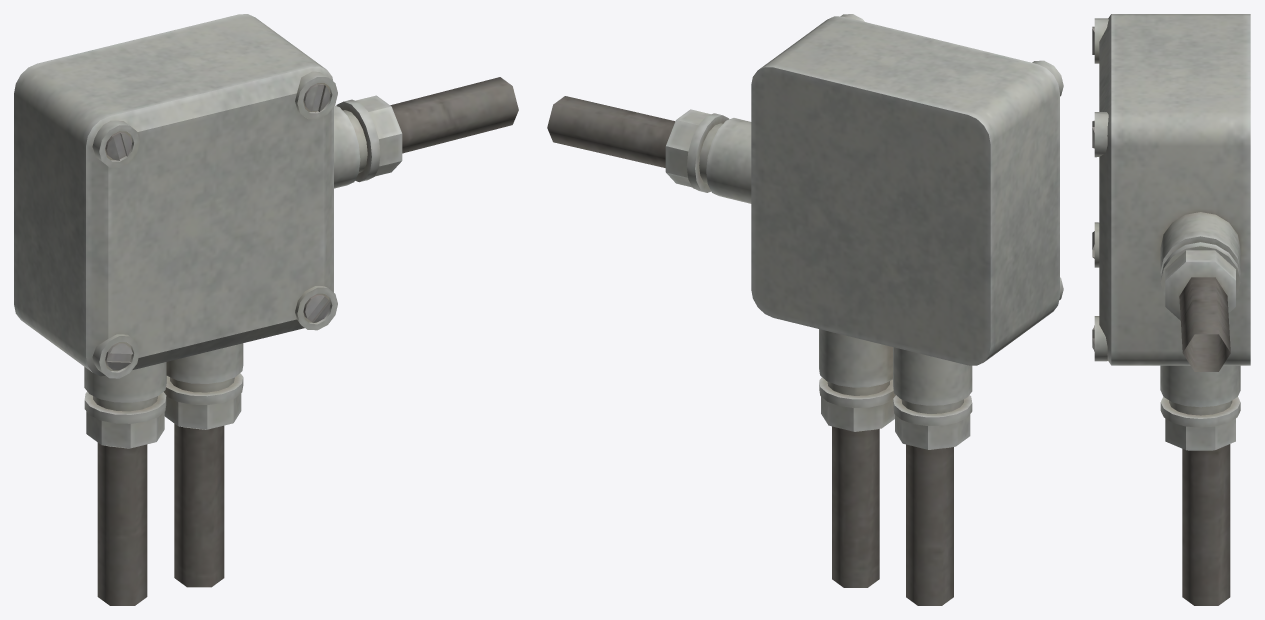
The model's file is cable_box_double_to_single_2.gltf.
The picture shows the model from 3 angles, left to right: view 1: azimuth 30°, elevation 25°; view 2: azimuth 150°, elevation 25°; view 3: azimuth 270°, elevation 25°; orthographic projection. The views are drawn at different scales.
Parts seen in each view (by area): view 1: cable_box_double_to_single_2; view 2: cable_box_double_to_single_2; view 3: cable_box_double_to_single_2.
Boxes of the visible parts, x1,y1,x2,y2 form: cable_box_double_to_single_2: (14, 14, 518, 605); cable_box_double_to_single_2: (547, 14, 1063, 605); cable_box_double_to_single_2: (1092, 14, 1250, 605).
Size of the model in its own units: 0.1223 by 0.1323 by 0.0369.
Materials: 1 (1 with a texture image).
